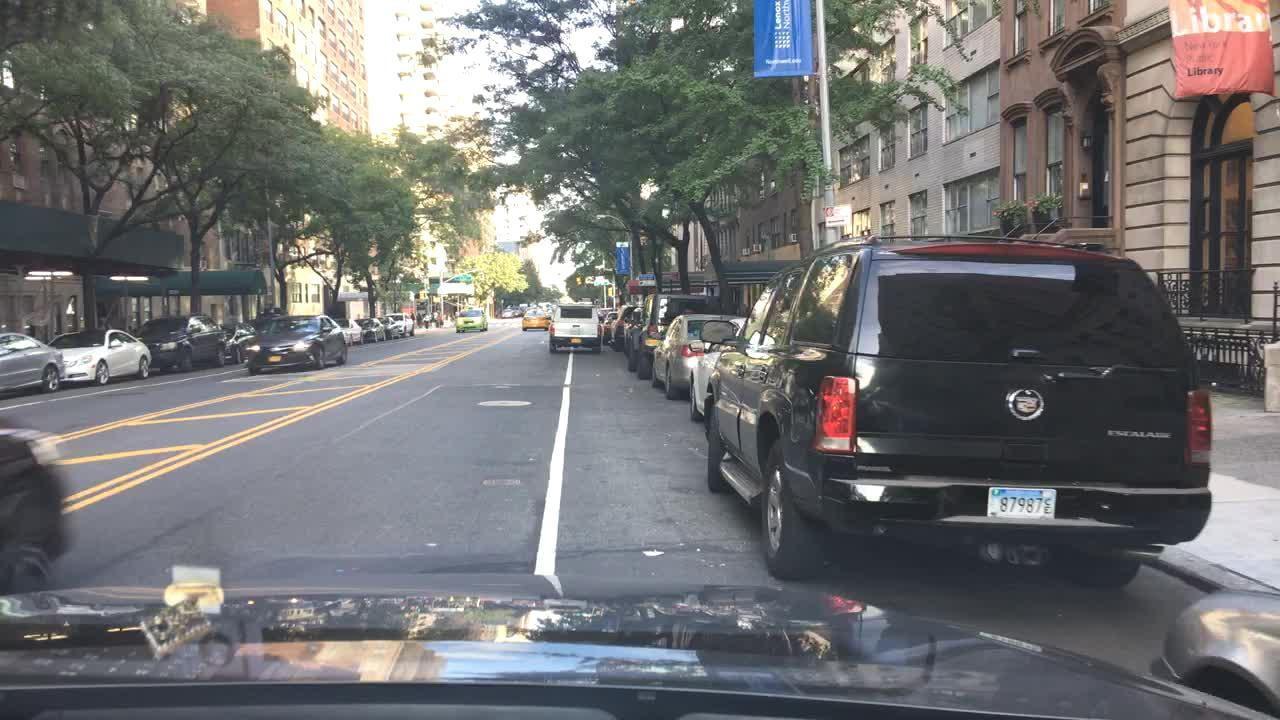cadillac: (1012, 390, 1043, 420)
